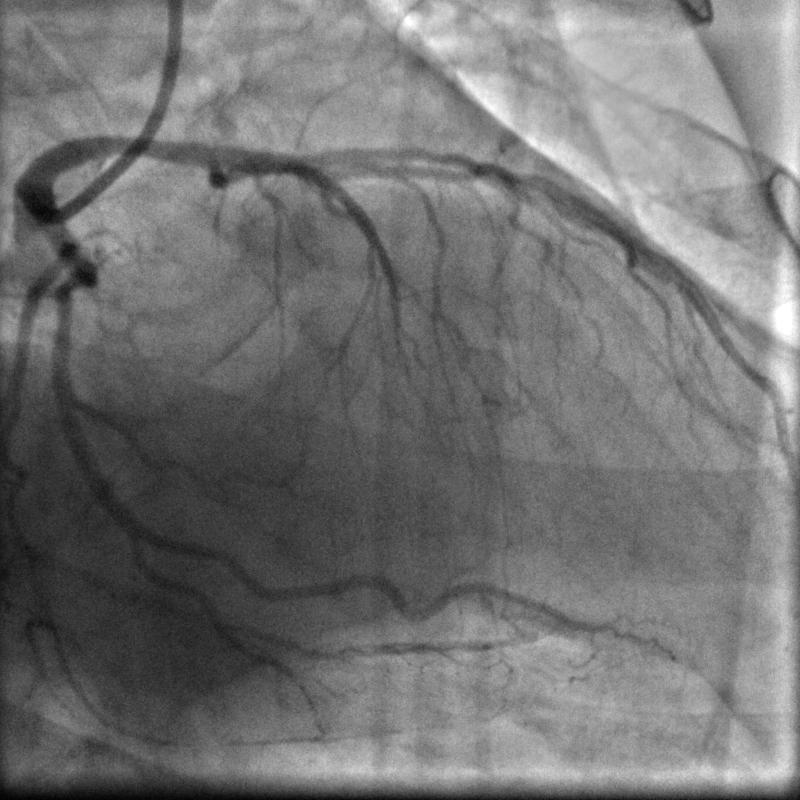Stenosis: (57, 259, 95, 322)
